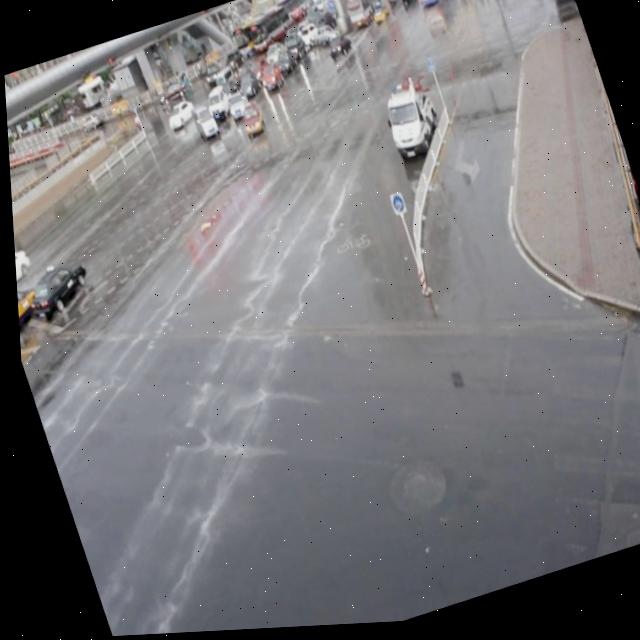bus: (374, 84, 444, 168)
car: (17, 255, 93, 320), (13, 277, 45, 336), (160, 99, 197, 132), (235, 101, 266, 139), (11, 243, 34, 292), (254, 62, 284, 96), (211, 82, 241, 113), (322, 35, 353, 65), (231, 72, 259, 103), (240, 61, 269, 89), (222, 92, 249, 122)
truck: (197, 88, 230, 128), (187, 102, 219, 143), (209, 67, 237, 98)
